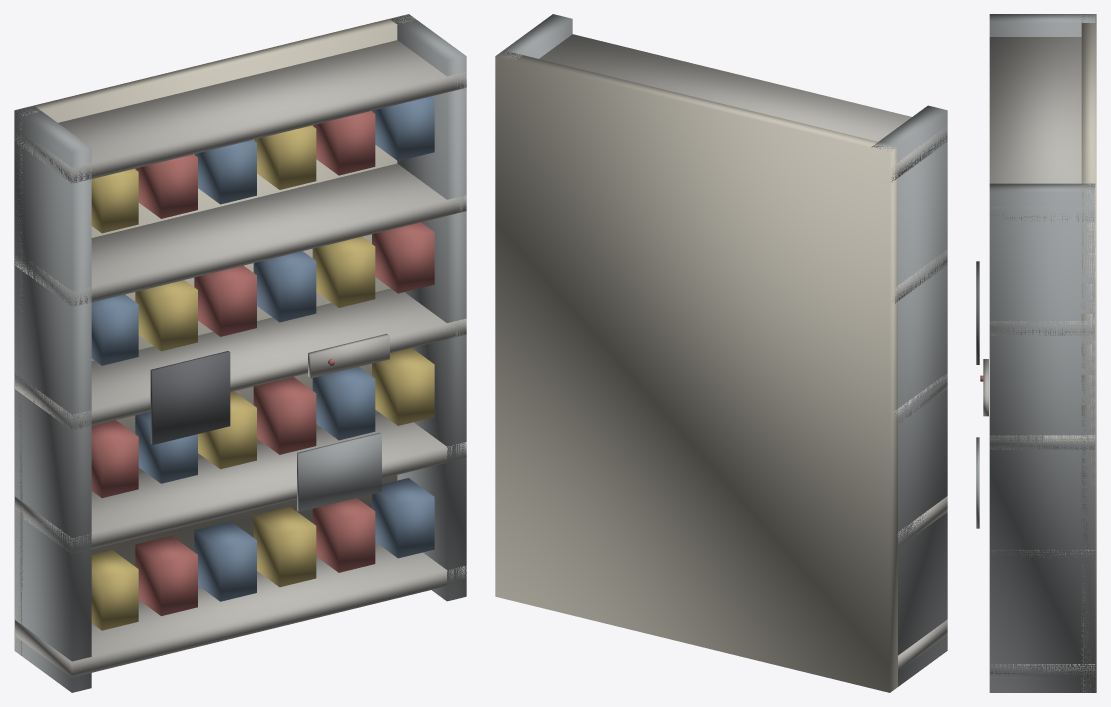
File: pharmacy_shelf__weathered.glb
3 renders of one model, left to right at view 1: azimuth 30°, elevation 25°; view 2: azimuth 150°, elevation 25°; view 3: azimuth 270°, elevation 25°, orthographic. The views are drawn at different scales.
Parts seen in each view (by area): view 1: world; view 2: world; view 3: world.
Boxes of the visible parts, x1,y1,x2,y2 form: world: (14, 14, 466, 692); world: (495, 14, 947, 692); world: (976, 14, 1096, 692).
Size of the model in its own units: 1.4 by 1.83 by 0.4.
